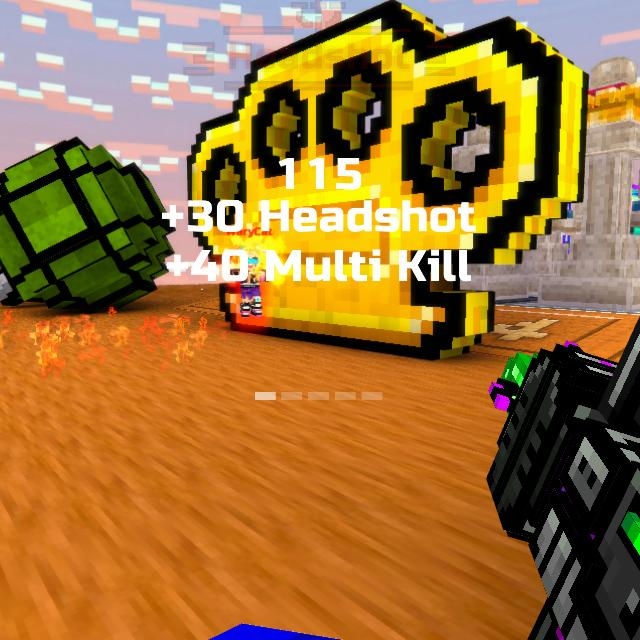Enemy: (230, 246, 269, 317)
